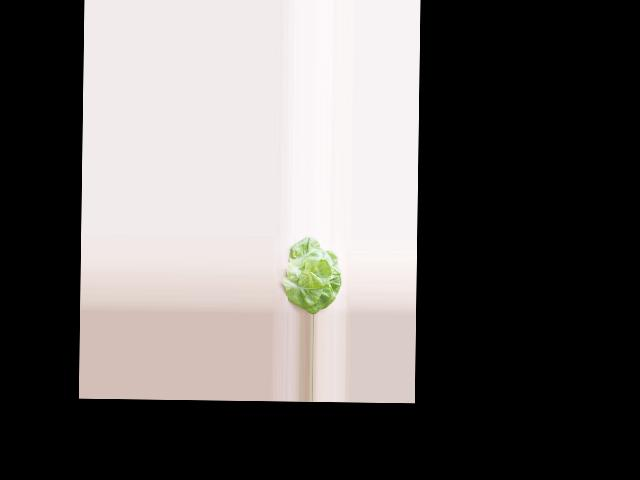lettuce: (283, 238, 342, 313)
